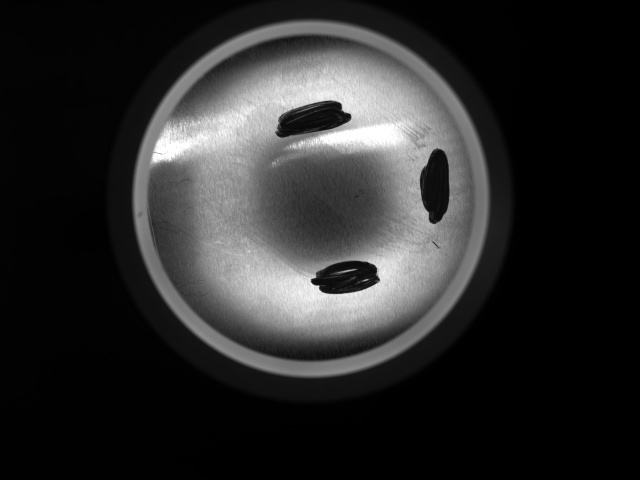zang_wu: (270, 98, 357, 138), (416, 144, 457, 227), (308, 258, 385, 298)
